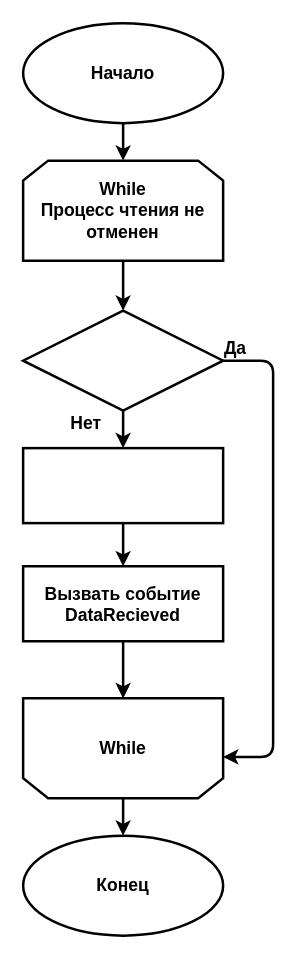
The diagram is 305 pixels wide and 958 high, and some of its shapes have lost their labels. Each missing label, with the centre of its shape:
"Поток данных пуст" goes at point 122,360.
"Считать данные из потока" goes at point 122,485.
